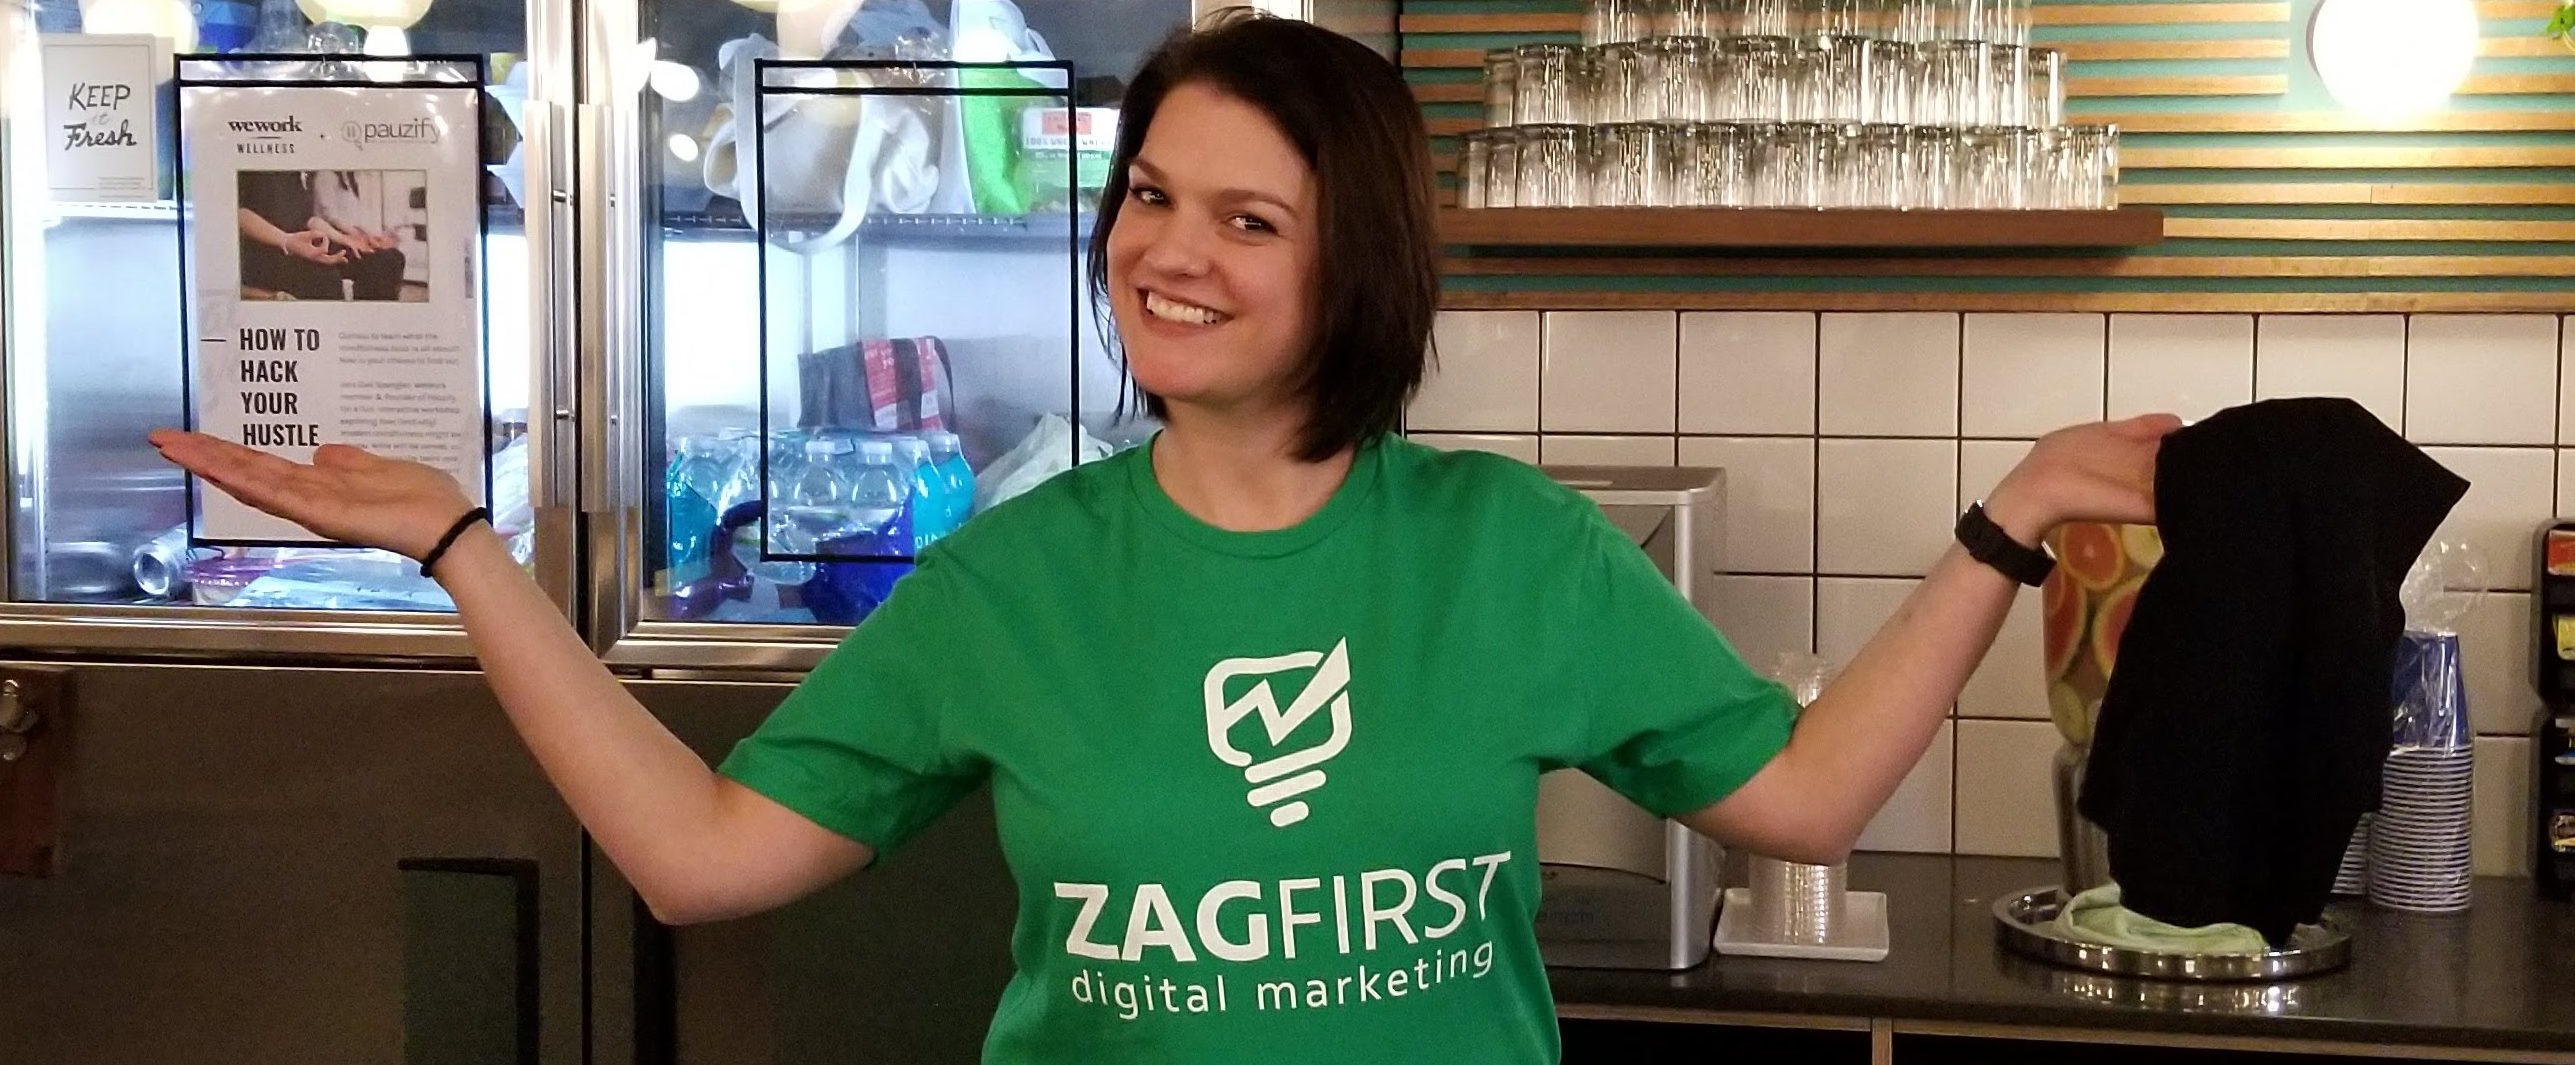wework: (227, 113, 304, 135)
